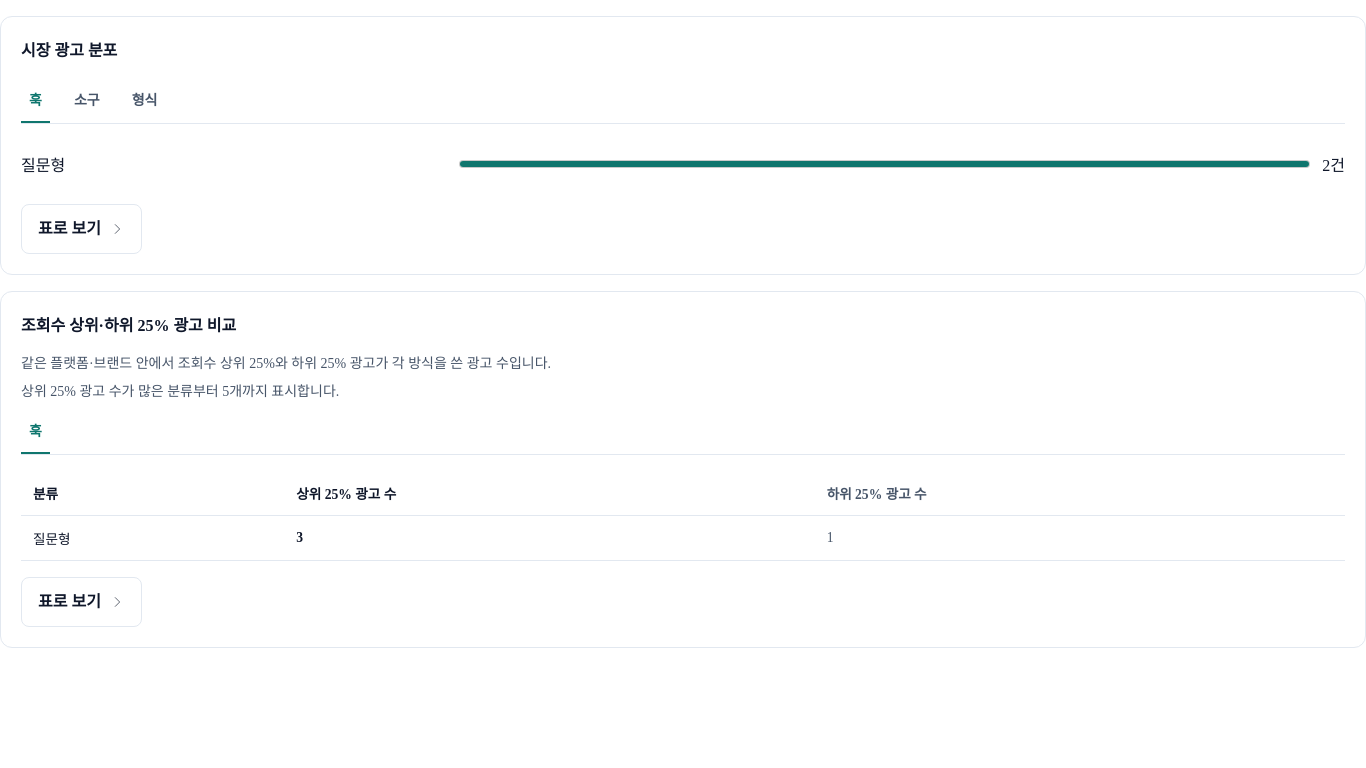
Test: shows independently collapsed verification tables for only the active axis
Later steps or results of the test are not shown.
Step 1. Click the button "표로 보기" below "시장 광고 분포" → (81, 229), box [21, 204, 142, 254]
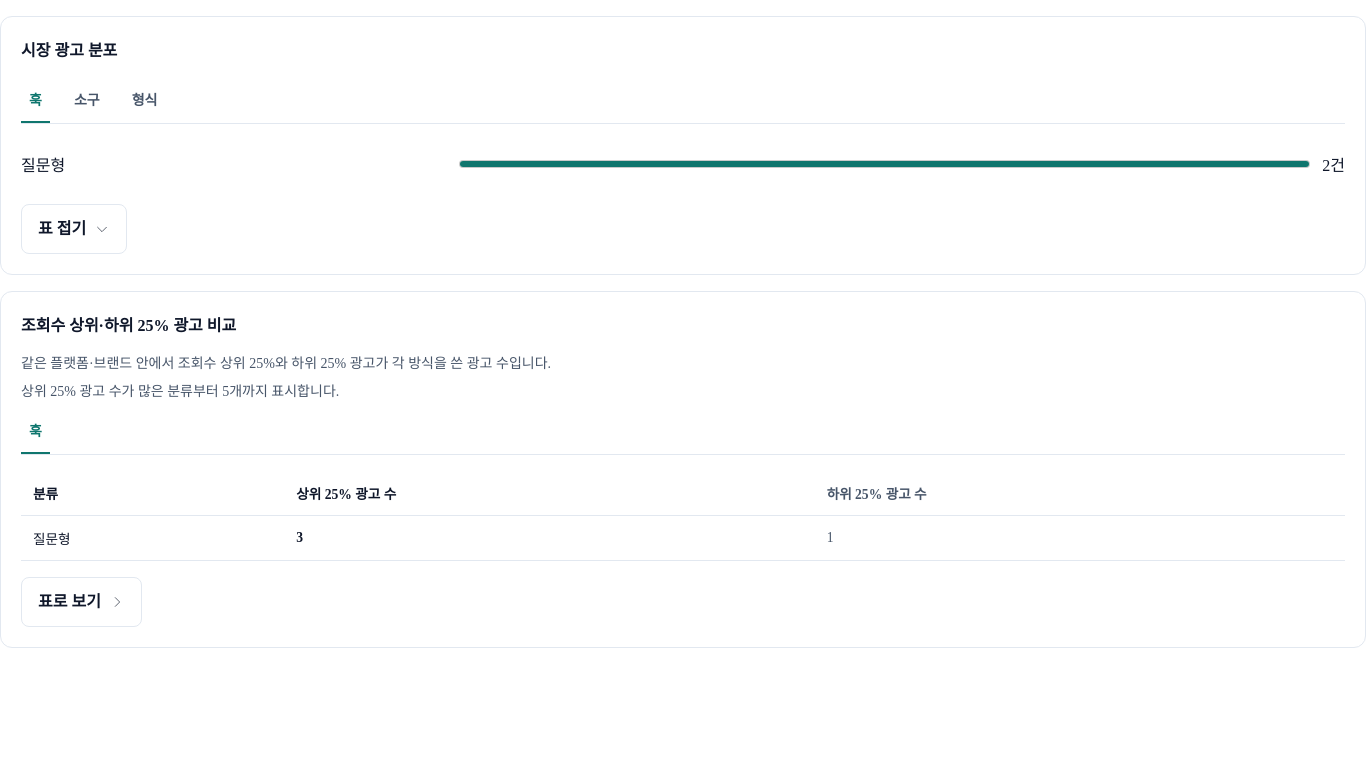
Expected: the button named "표로 보기" reads "표 접기", [21, 204, 127, 254]
